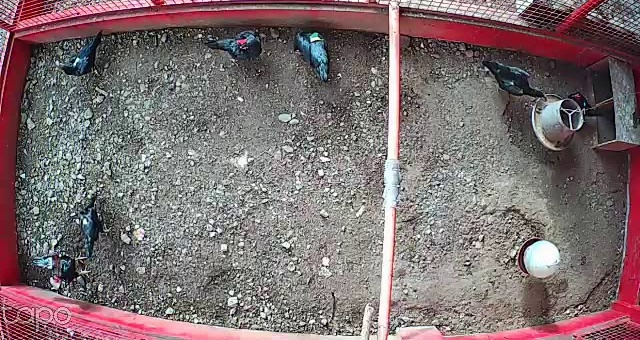Chicken: (478, 55, 545, 105), (53, 30, 110, 81), (201, 27, 266, 71), (291, 26, 335, 83), (79, 196, 111, 268), (568, 90, 609, 121)
Rooster: (23, 245, 100, 283)
Saddle_Color_Red: (237, 35, 246, 45)
Saddle_Color_White: (73, 57, 80, 68)
Saddle_Color_YellowGreen: (308, 32, 321, 44)
